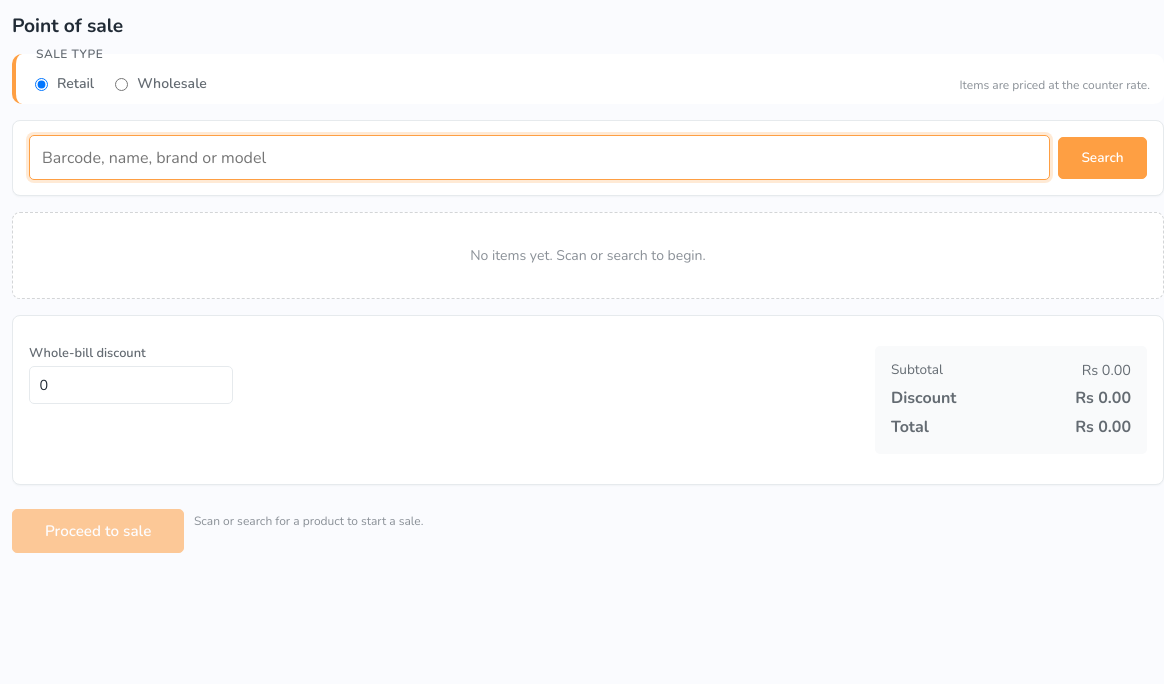
Test: POS search results › re-reads the cards on screen when the sale type changes, so Add charges the new rate
Type "type-c" into the field named "scan or search". click: (540, 158)
box: [29,135,1050,180]
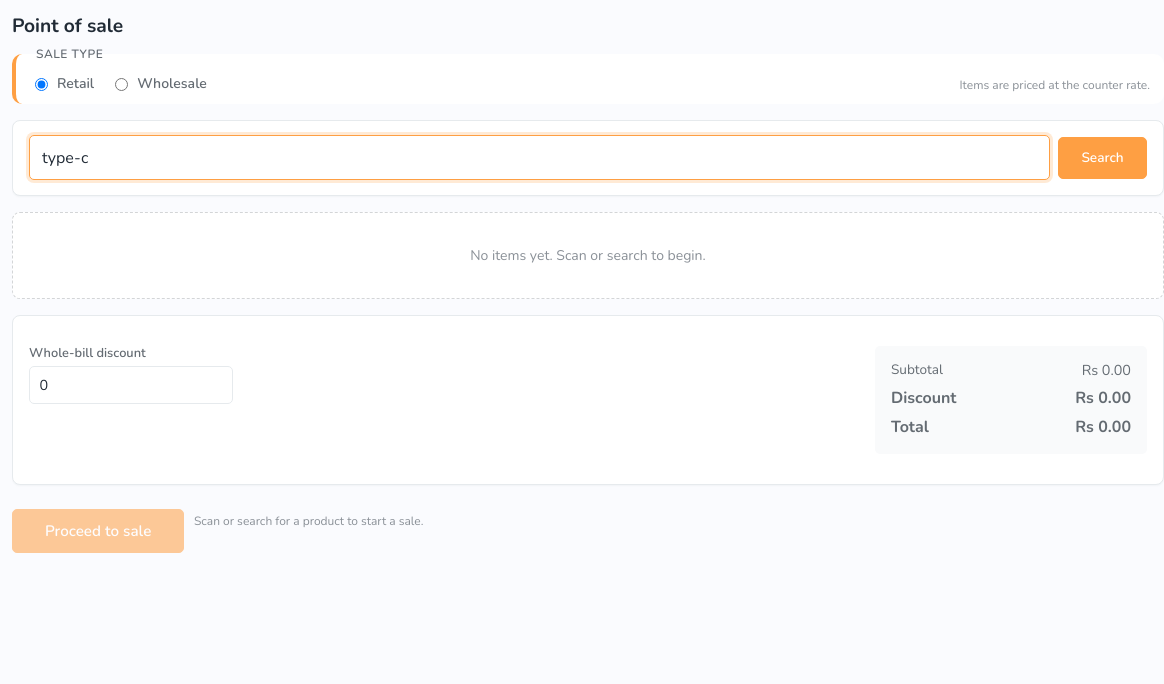
Press Enter
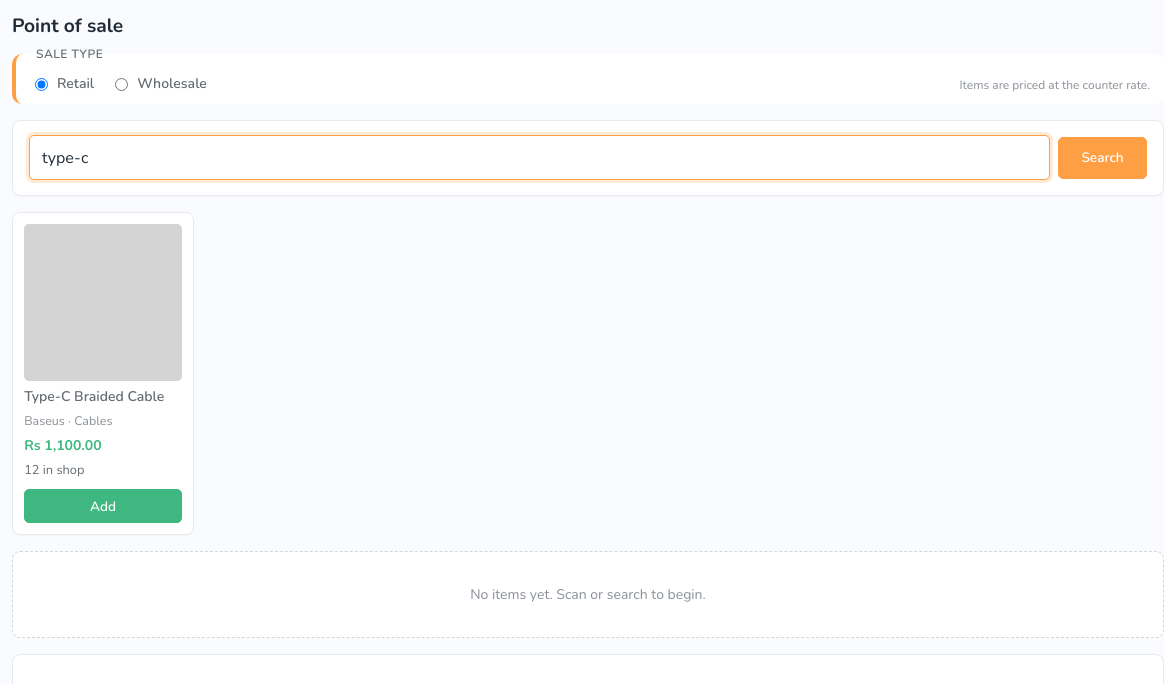
expect the list item with test id "pos-result-1" shows "Rs 1,100.00": met, box [24,436,102,456]
Click the radio button labelled "Wholesale". click: (122, 85)
box: [115,78,128,91]
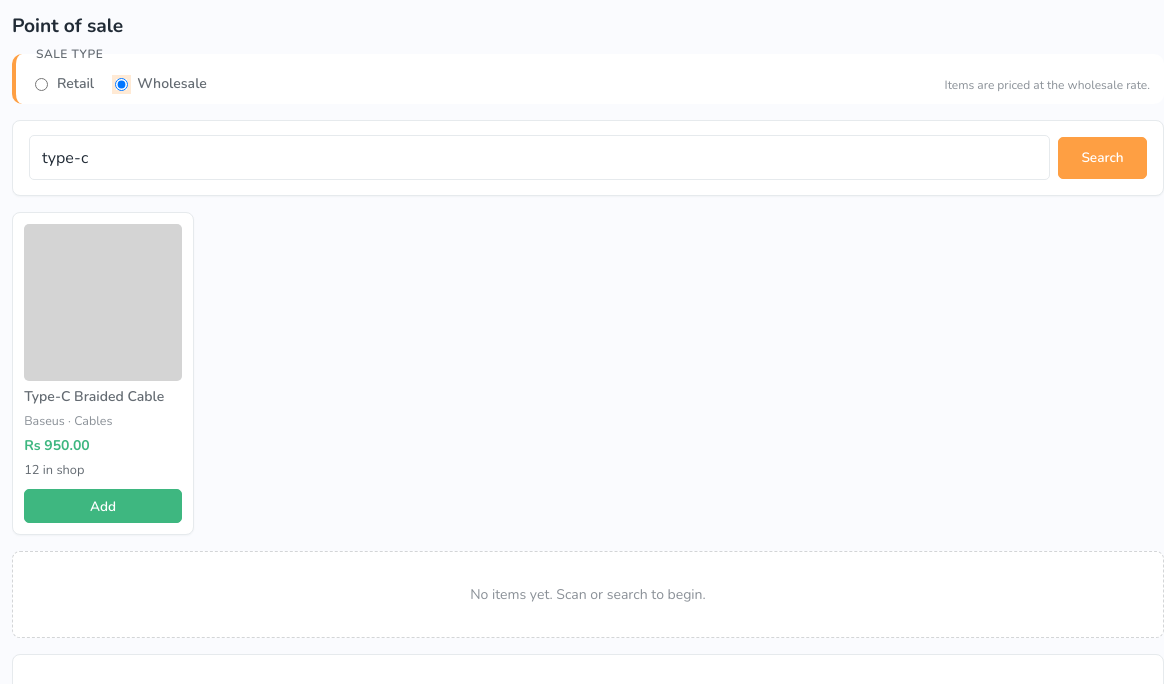
expect the list item with test id "pos-result-1" shows "Rs 950.00": met, box [24,436,90,456]
Click the button "Add". click: (103, 506)
box: [24,489,182,523]
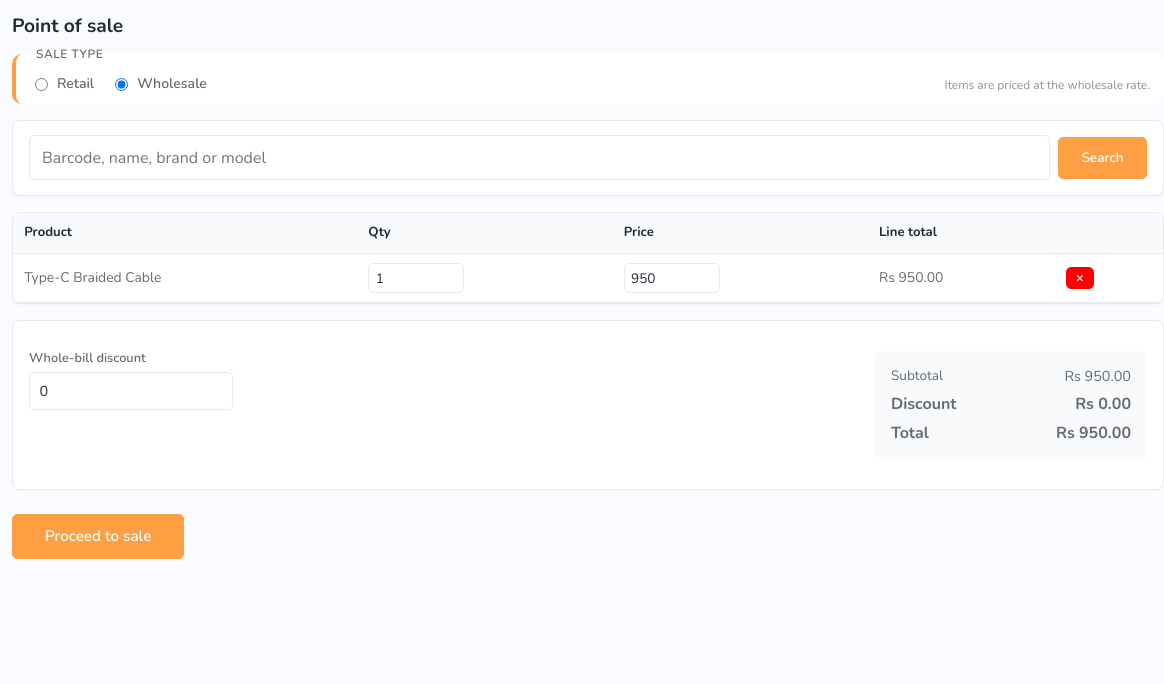
expect the number field named "price for type-c braided cable" holds "950": met, box [624,263,720,293]
